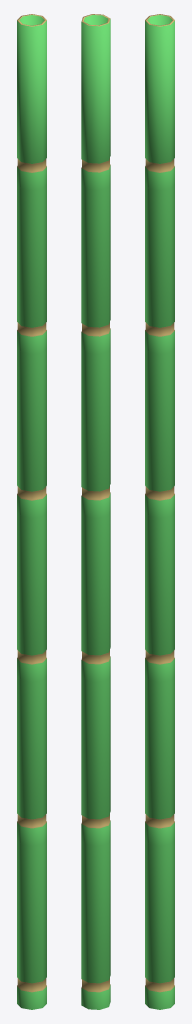
Rendered from Bambu_Medio.fbx.
3 views of the same model, side by side, from view 1: azimuth 90°, elevation 25°; view 2: azimuth 150°, elevation 25°; view 3: azimuth 270°, elevation 25° (orthographic).
Visible parts, largest first — view 1: Bambu_Medio; view 2: Bambu_Medio; view 3: Bambu_Medio.
Part boxes in pixels (x1,y1,x2,y2): Bambu_Medio: (17, 14, 46, 1009); Bambu_Medio: (81, 14, 110, 1009); Bambu_Medio: (145, 14, 174, 1009).
Bounding box in the file's own units: 0.0744 × 0.0744 × 2.68.
